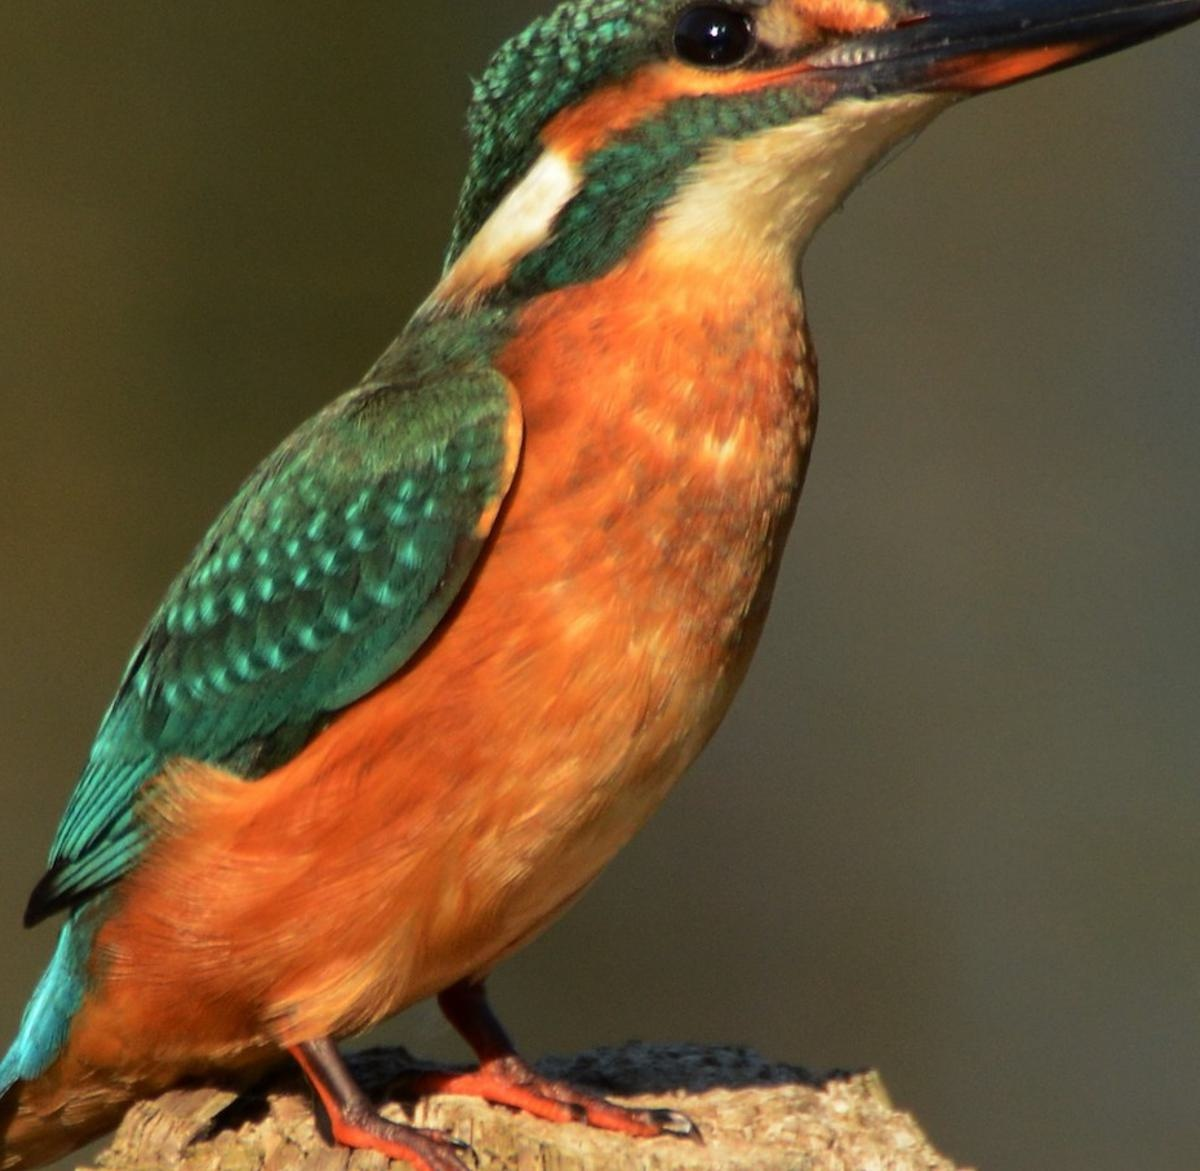kingfisher: (6, 1, 1142, 1146)
